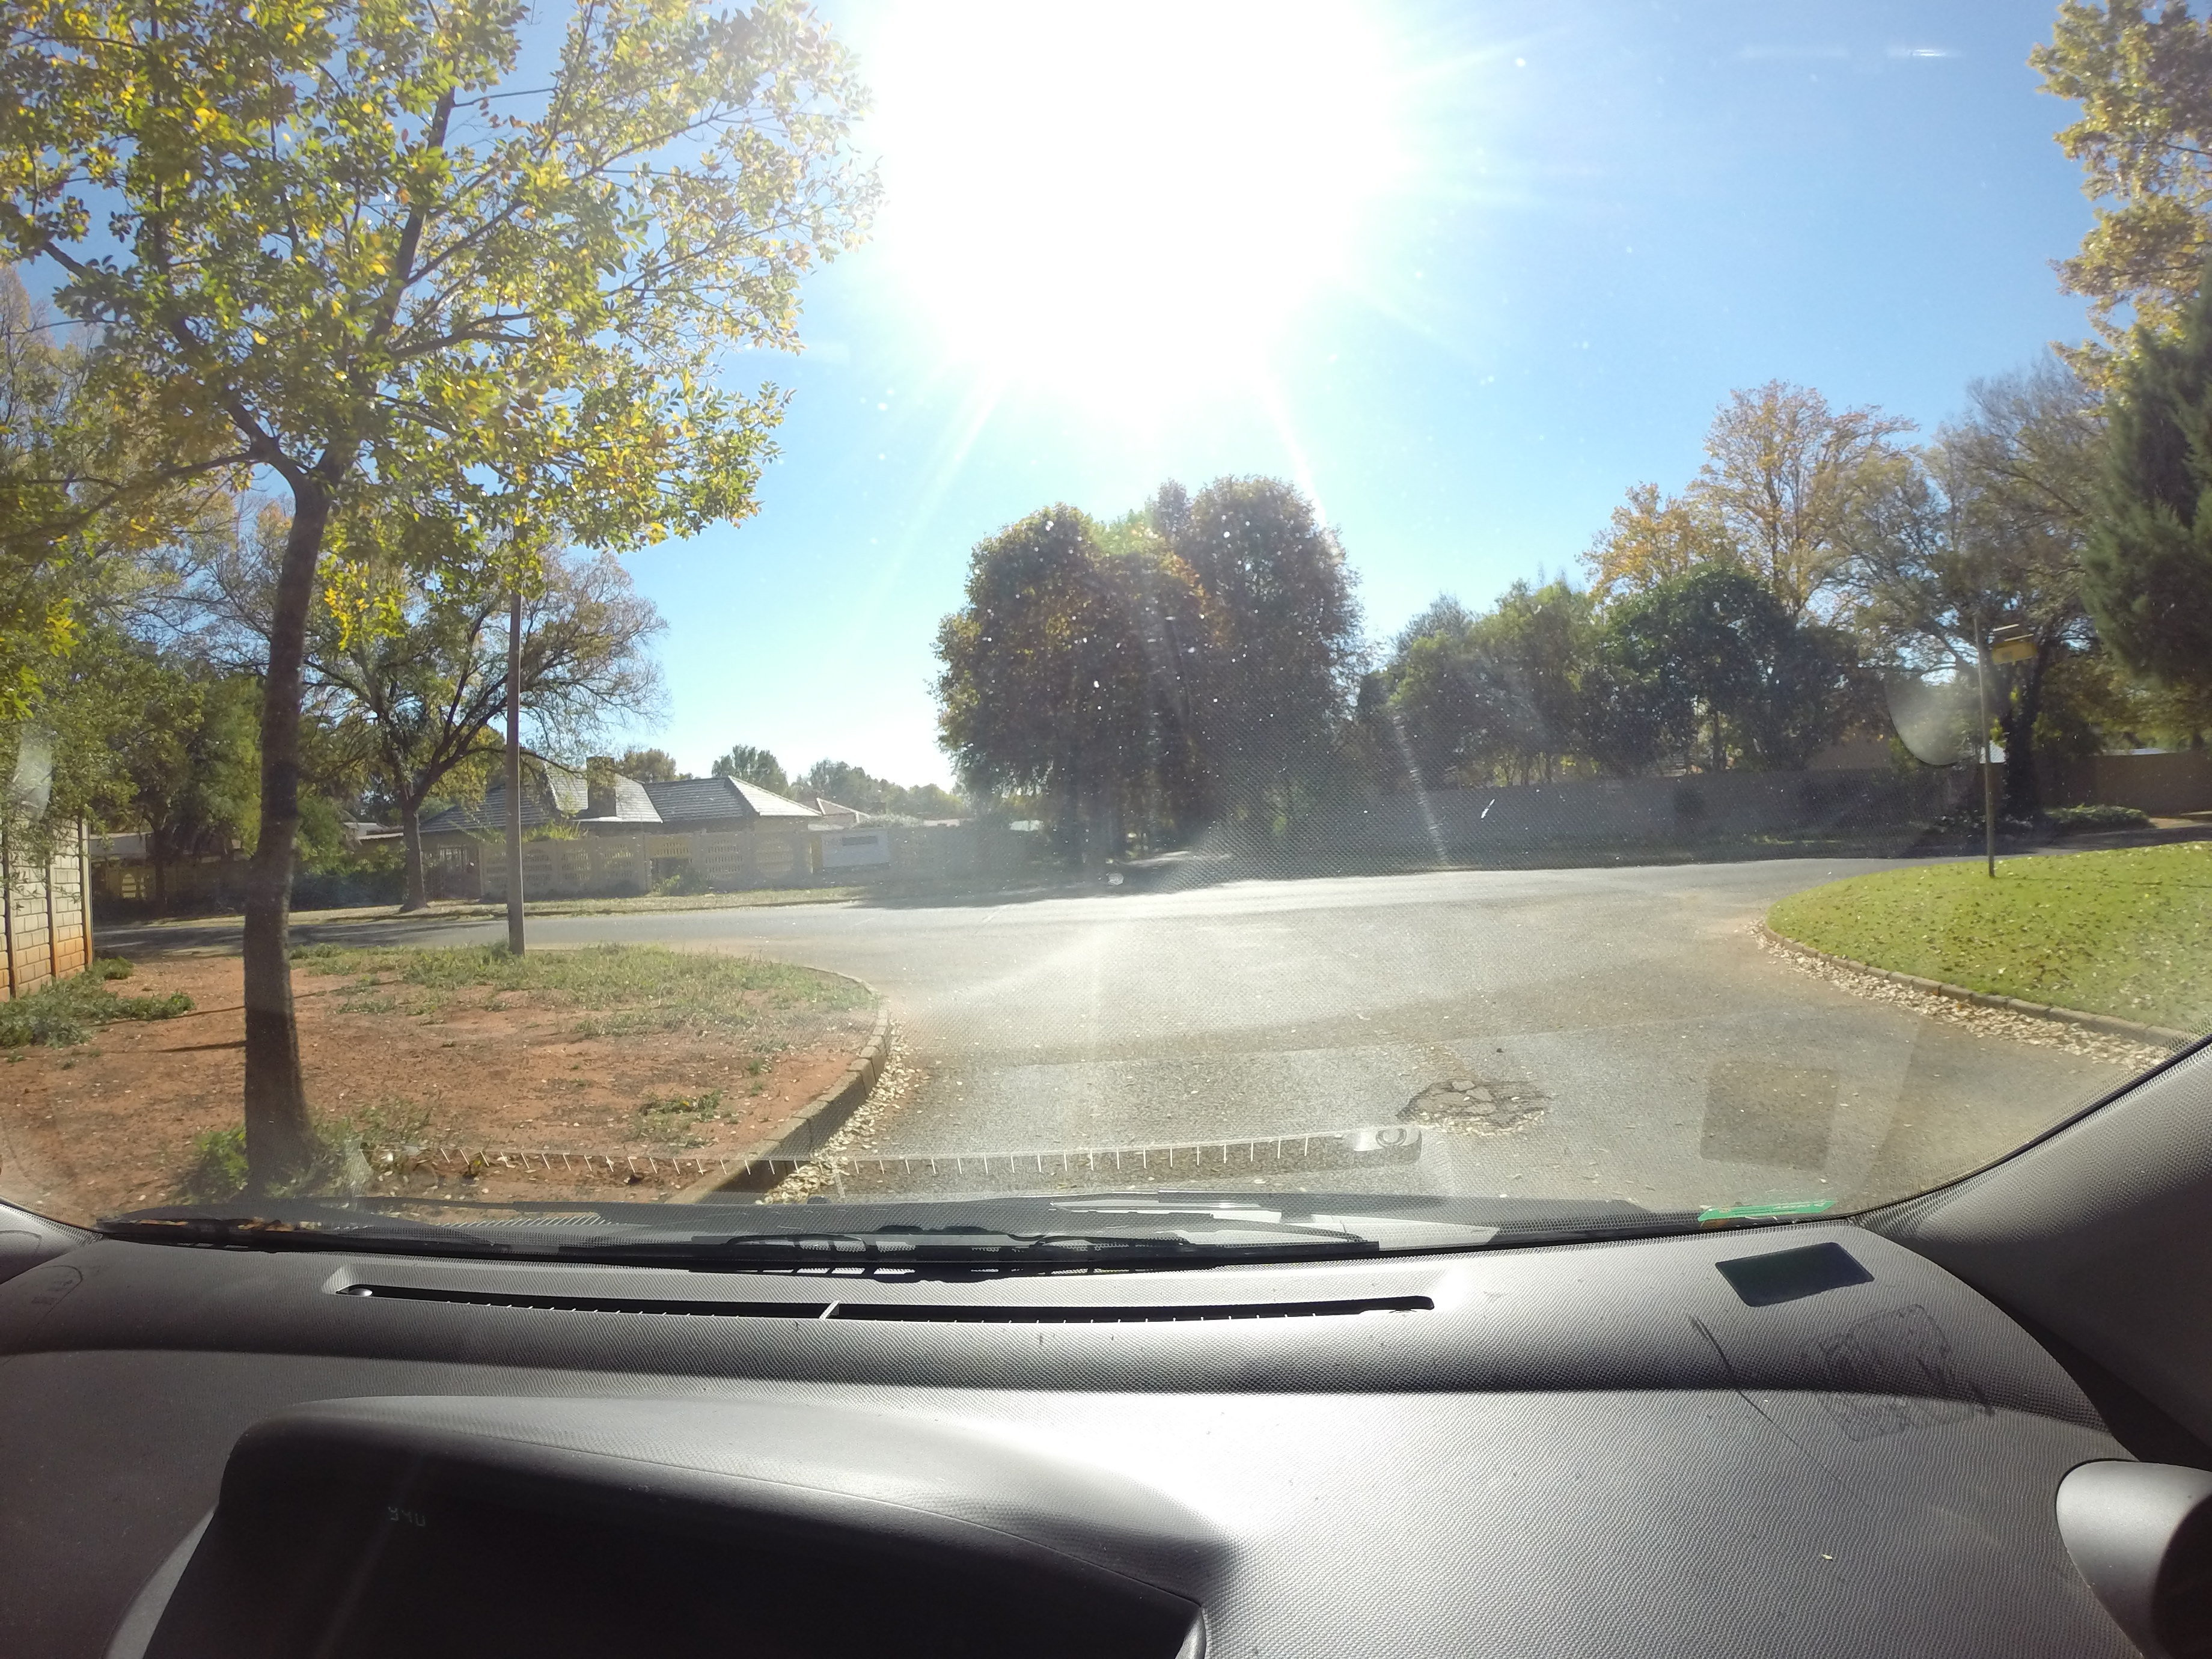pothole: (1385, 1070, 1583, 1173)
